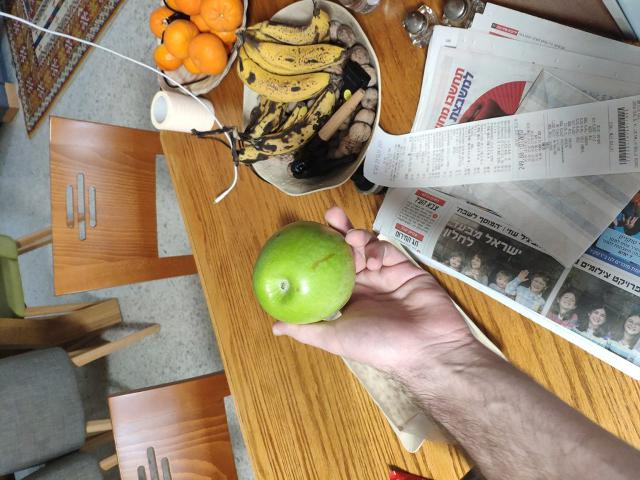apple: (244, 219, 352, 328)
